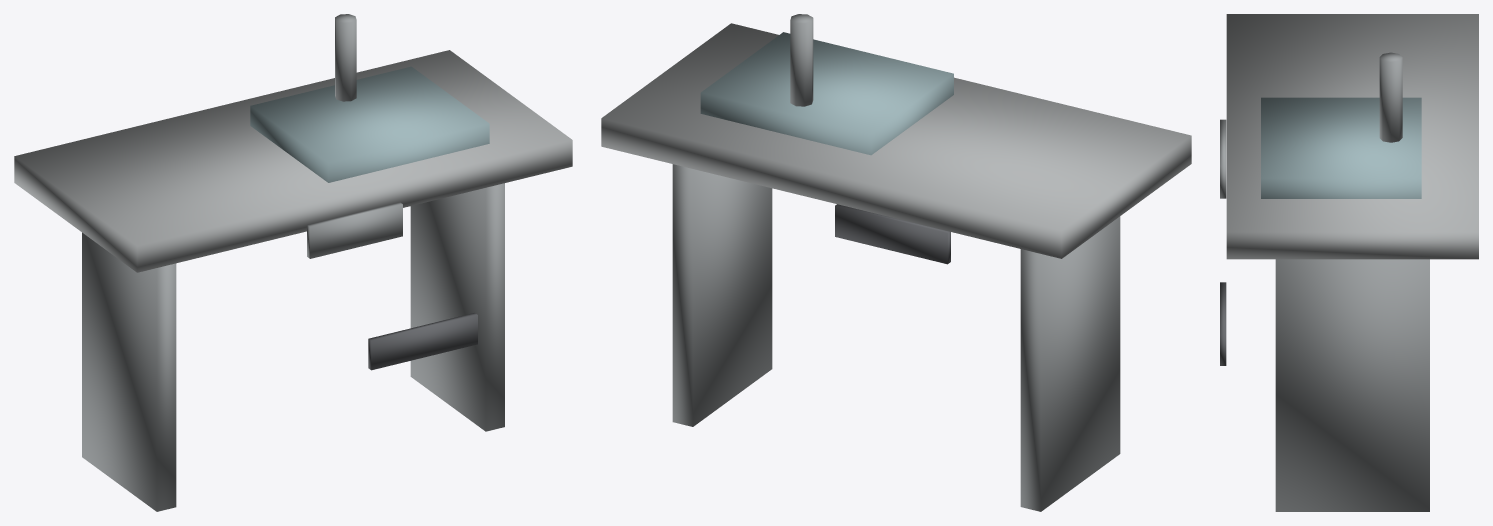
File: lab_sink_bench__weathered.glb
The picture shows the model from 3 angles, left to right: view 1: azimuth 30°, elevation 25°; view 2: azimuth 150°, elevation 25°; view 3: azimuth 270°, elevation 25°; orthographic projection. The views are drawn at different scales.
Parts seen in each view (by area): view 1: world; view 2: world; view 3: world.
Part boxes in pixels (x1,y1,x2,y2): world: [14, 14, 572, 511]; world: [601, 14, 1191, 511]; world: [1220, 14, 1478, 511].
Size of the model in its own units: 1.35 by 1.16 by 0.6775.
